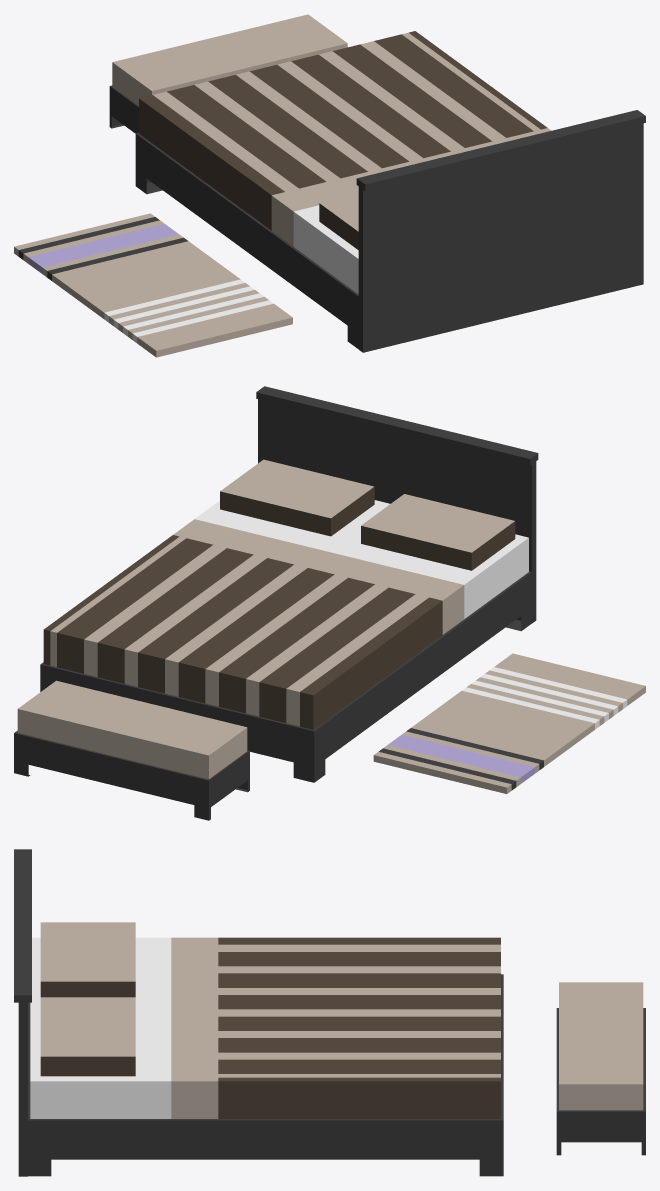
File: bed.obj
3 renders of one model, top to bottom at view 1: azimuth 30°, elevation 25°; view 2: azimuth 150°, elevation 25°; view 3: azimuth 270°, elevation 25°, orthographic. The views are drawn at different scales.
Parts seen in each view (by area): view 1: polySurface28; view 2: polySurface28; view 3: polySurface28.
Part boxes in pixels (x1,y1,x2,y2): polySurface28: (14,14,645,357); polySurface28: (14,386,645,820); polySurface28: (14,849,645,1176).
Bounding box in the file's own units: 2.44 × 0.9033 × 2.85.
11 materials, 11 textured.
